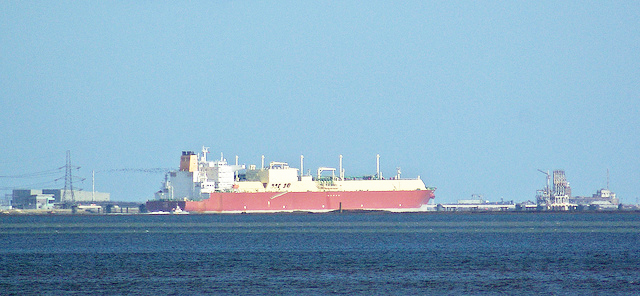LNG_ship: (148, 150, 436, 218)
